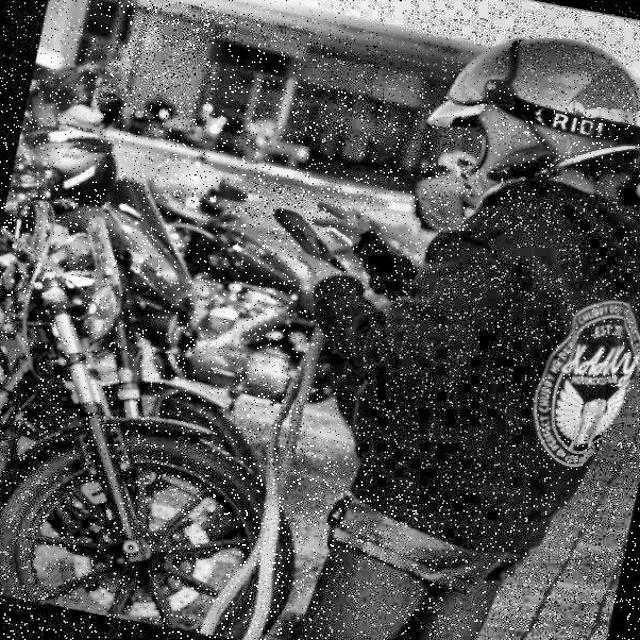Helmet: (404, 6, 640, 242)
